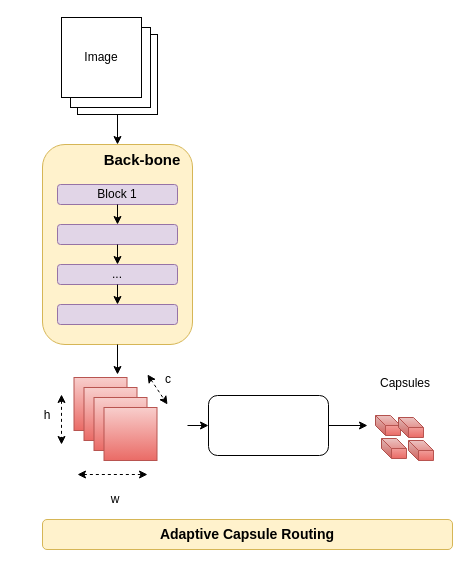
This 470x567 diagram has some shape labels left out. The shapes that lost their labels are listed below. From the top down, each one's box as (x1, y1, x2, y2) in pixels, then its label:
(56, 224, 178, 244): Block 2
(56, 304, 178, 324): Block n
(208, 394, 328, 456): Projection Block
